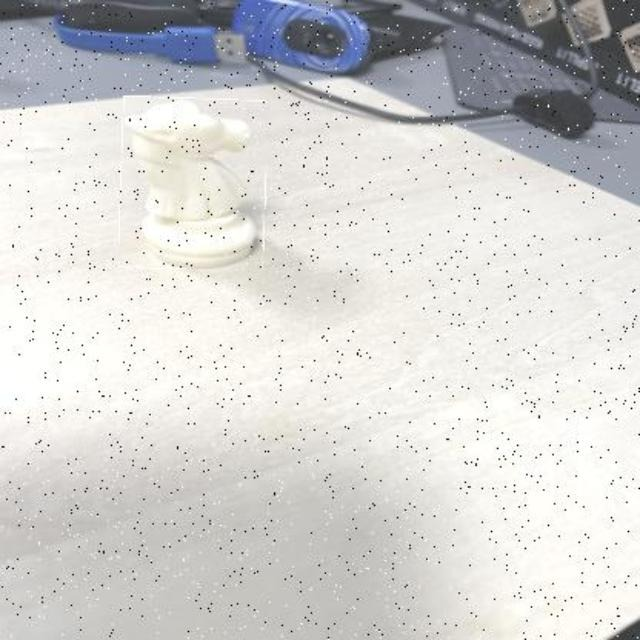white-knight: (120, 98, 267, 270)
